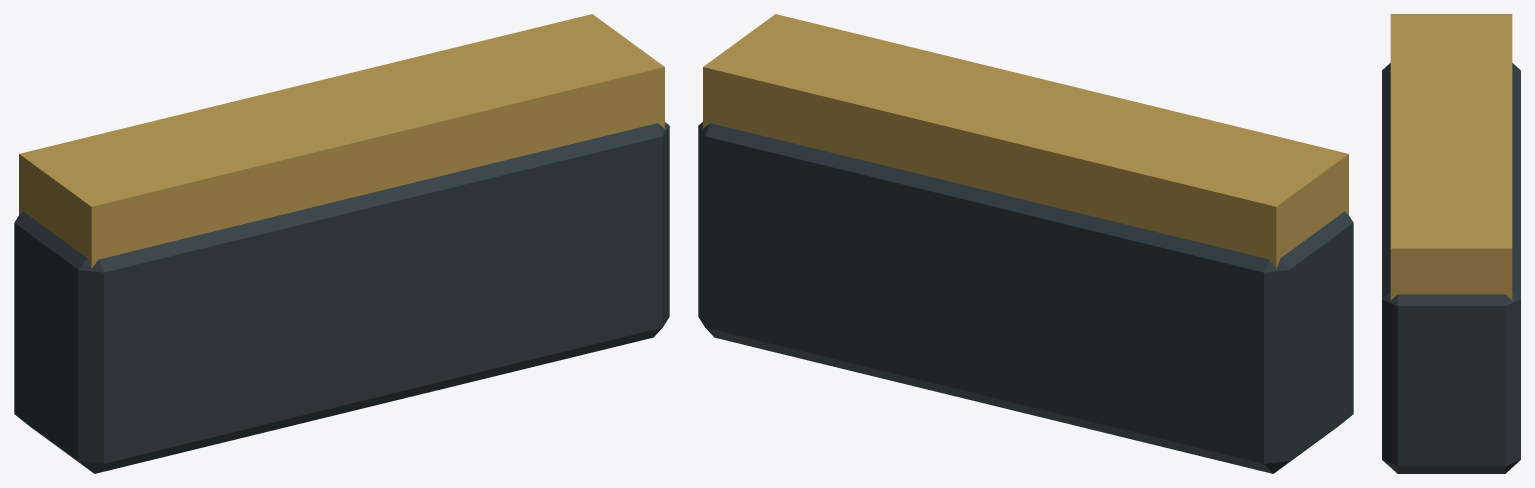
Rendered from rail-endpoint-lod0.591ef458454a.glb.
The picture shows the model from 3 angles, left to right: view 1: azimuth 30°, elevation 25°; view 2: azimuth 150°, elevation 25°; view 3: azimuth 270°, elevation 25°; orthographic projection. The views are drawn at different scales.
Visible parts, largest first — view 1: body; view 2: body; view 3: body.
Boxes of the visible parts, bbox=[...] form: body: bbox=[14, 14, 669, 473]; body: bbox=[698, 14, 1353, 473]; body: bbox=[1382, 14, 1520, 473].
Size of the model in its own units: 0.66 by 0.29 by 0.16.
